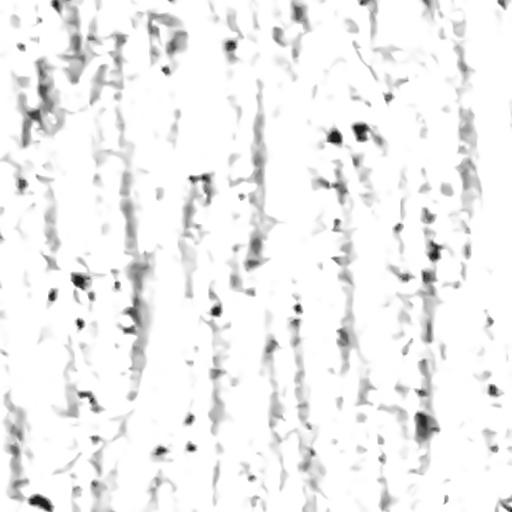egg: (78, 390, 102, 412), (28, 494, 52, 511), (353, 123, 369, 141), (71, 272, 90, 287), (429, 242, 441, 261), (327, 129, 341, 144), (27, 109, 40, 122), (210, 303, 220, 316), (48, 288, 57, 302), (227, 40, 236, 51)
